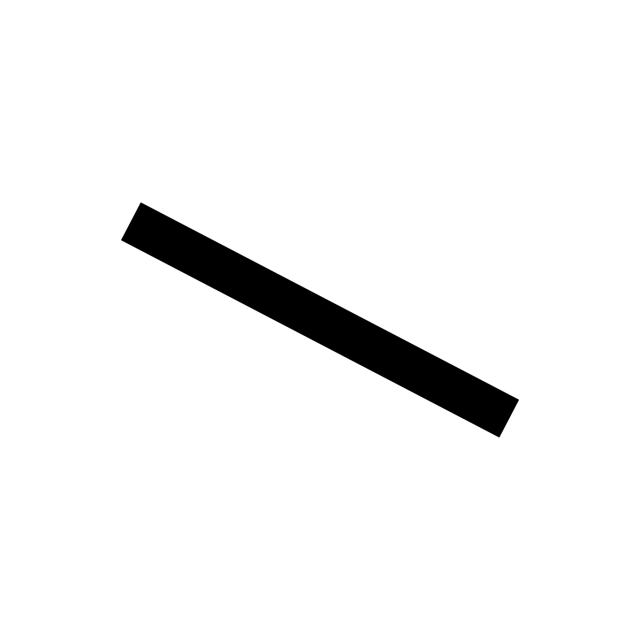line: (121, 202, 519, 438)
